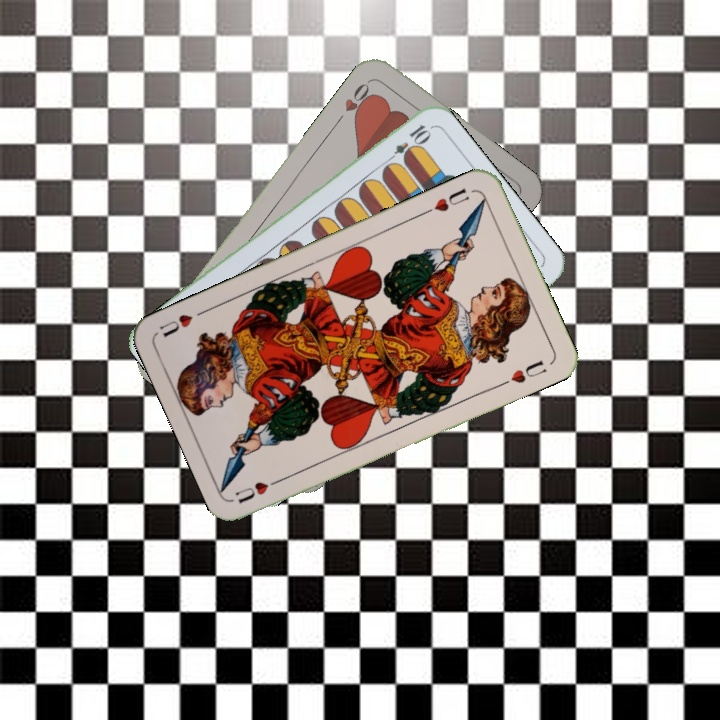E10: (382, 120, 433, 167)
HO: (331, 77, 376, 128)
HU: (231, 473, 287, 506), (420, 183, 472, 217)
